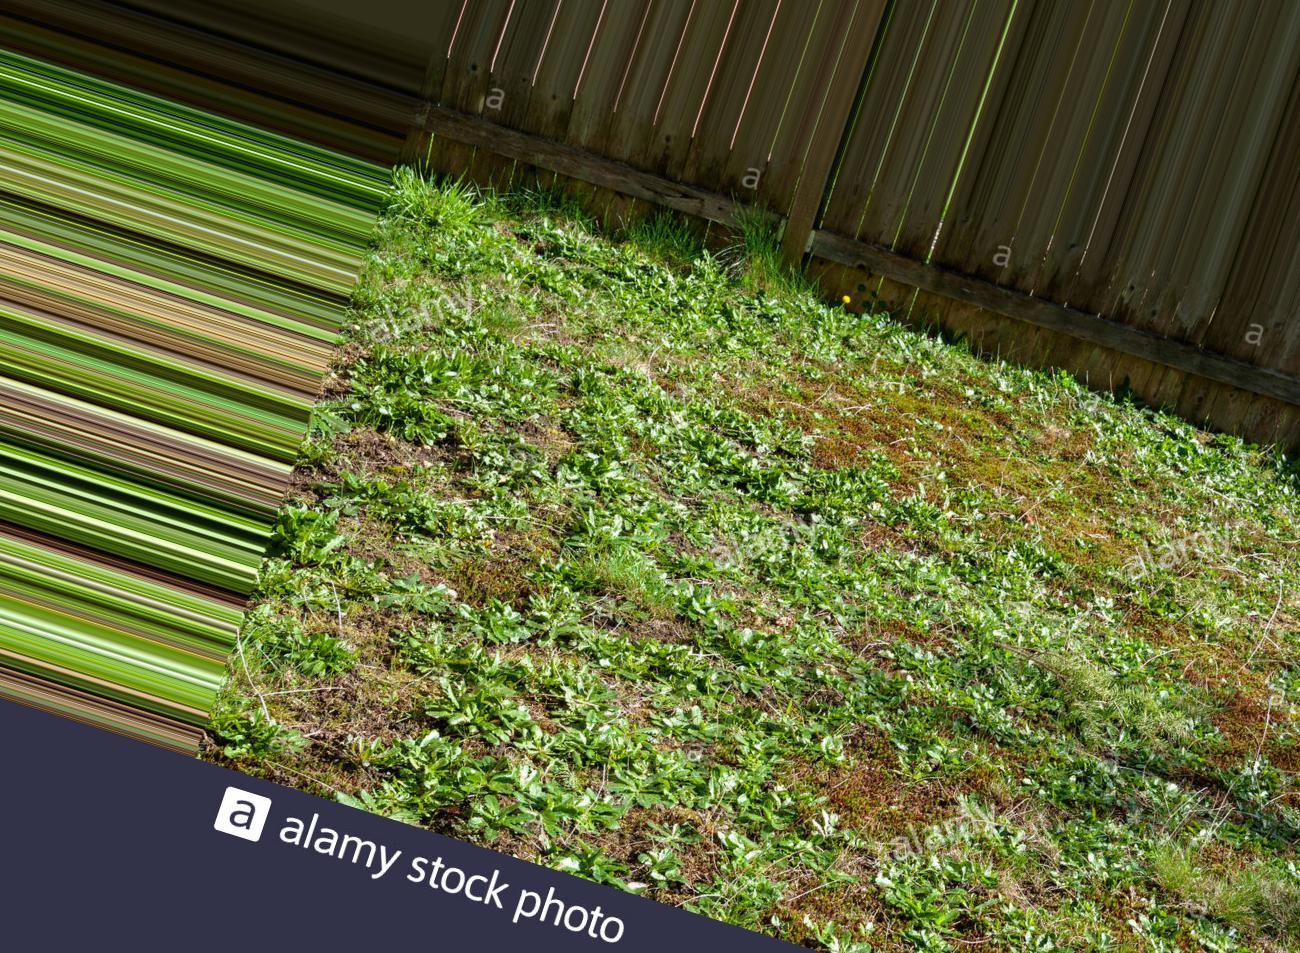patch: (880, 401, 1032, 499)
